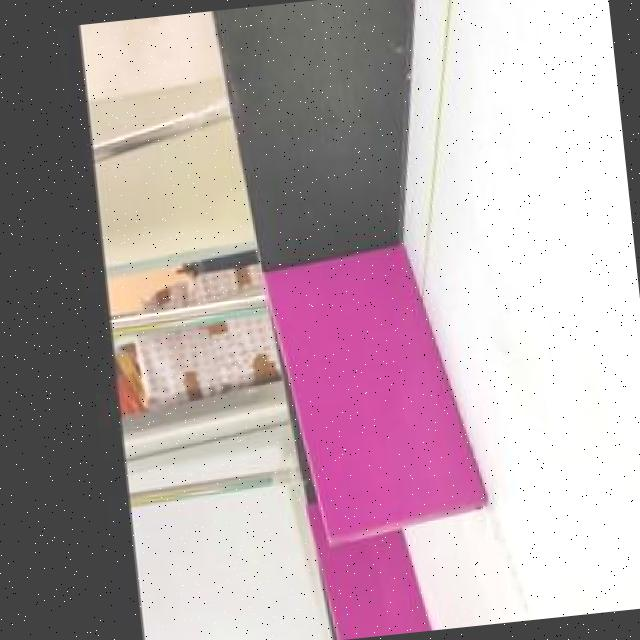xparking: (302, 251, 466, 522), (332, 538, 429, 640)
